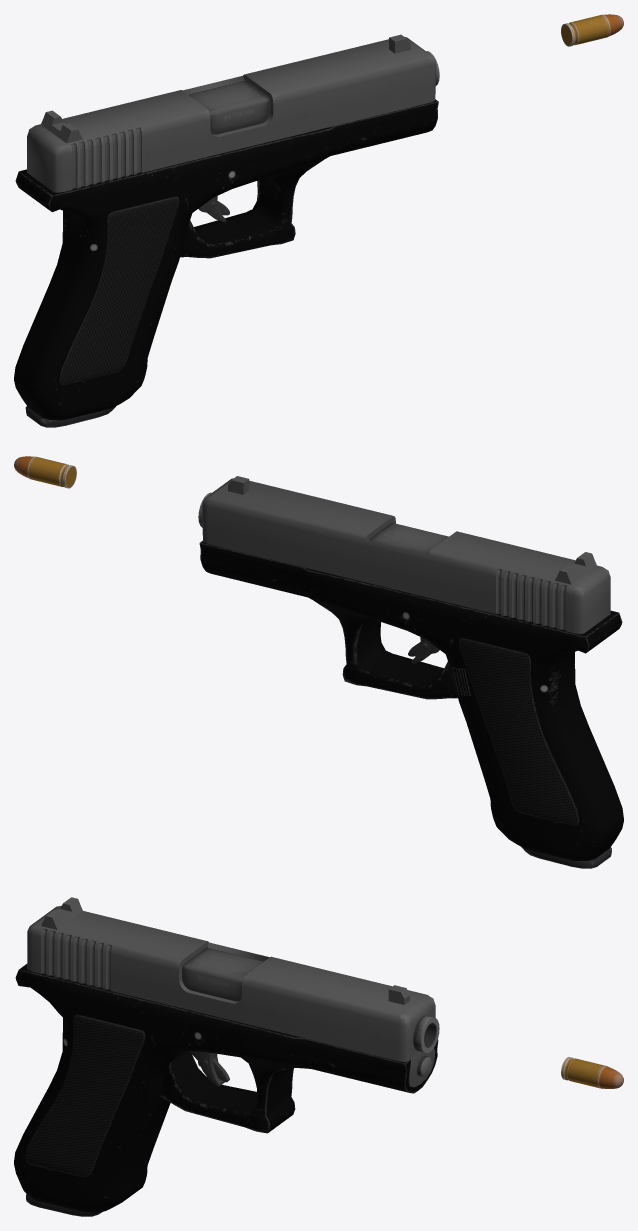
File: pistol-9mm.glb
3 views of the same model, one above another, from view 1: azimuth 30°, elevation 25°; view 2: azimuth 150°, elevation 25°; view 3: azimuth 330°, elevation 25° (orthographic).
Parts seen in each view (by area): view 1: Low_1, Low_3, Low_7, Low_2, Low_12, Low_5, Low_8; view 2: Low_1, Low_3, Low_7, Low_12, Low_2, Low_5, Low_8; view 3: Low_1, Low_3, Low_7, Low_2, Low_12, Low_10, Low_4, Low_5, Low_8.
Boxes of the visible parts, bbox=[...] form: Low_1: bbox=[14, 99, 438, 420]; Low_3: bbox=[27, 37, 435, 192]; Low_7: bbox=[58, 196, 179, 385]; Low_2: bbox=[188, 80, 270, 134]; Low_12: bbox=[561, 14, 623, 46]; Low_5: bbox=[41, 110, 82, 143]; Low_8: bbox=[25, 406, 115, 427]; Low_1: bbox=[199, 540, 623, 860]; Low_3: bbox=[202, 478, 610, 633]; Low_7: bbox=[459, 637, 579, 826]; Low_12: bbox=[14, 456, 76, 488]; Low_2: bbox=[368, 522, 448, 554]; Low_5: bbox=[555, 552, 596, 584]; Low_8: bbox=[521, 846, 611, 868]; Low_1: bbox=[14, 964, 438, 1212]; Low_3: bbox=[27, 905, 435, 1087]; Low_7: bbox=[25, 1014, 145, 1177]; Low_2: bbox=[182, 947, 263, 1001]; Low_12: bbox=[561, 1057, 623, 1088]; Low_10: bbox=[413, 1015, 439, 1052]; Low_4: bbox=[189, 1051, 229, 1086]; Low_5: bbox=[41, 897, 82, 929]; Low_8: bbox=[26, 1194, 102, 1216].
Bounding box in the file's own units: 0.2747 × 0.1287 × 0.0284.
1 material, 1 textured.
